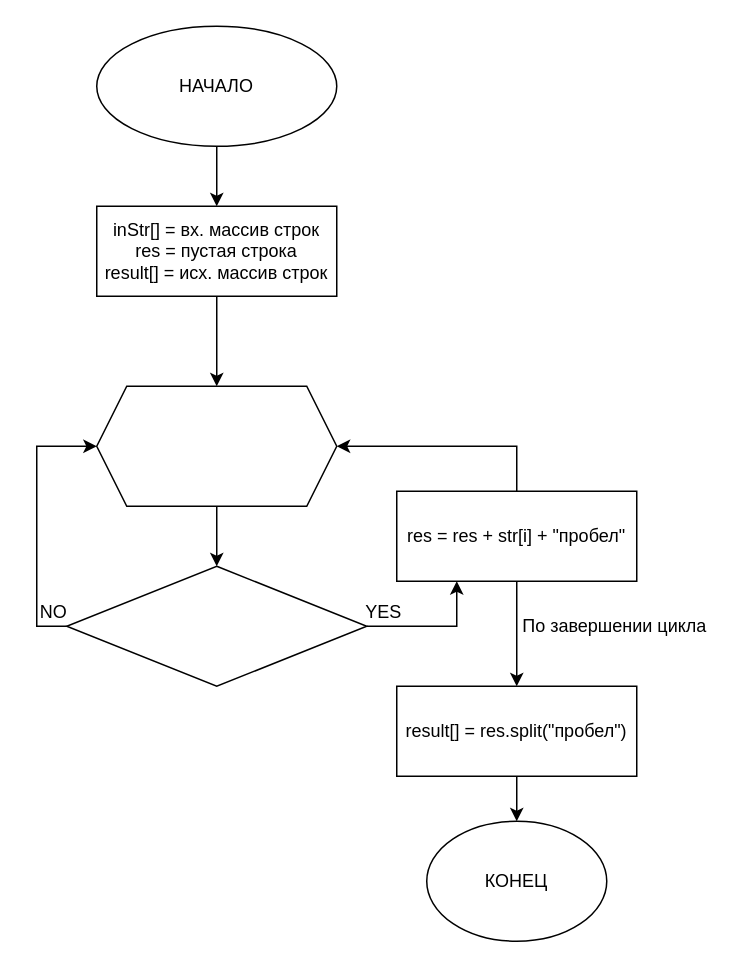
The diagram is 753 pixels wide and 968 high, and some of its shapes have lost their labels. Each missing label, with the box of its shape:
for i=0, i < inStr.lenght, i++: (95, 385, 337, 506)
inStr[i] <=3: (65, 565, 367, 686)
